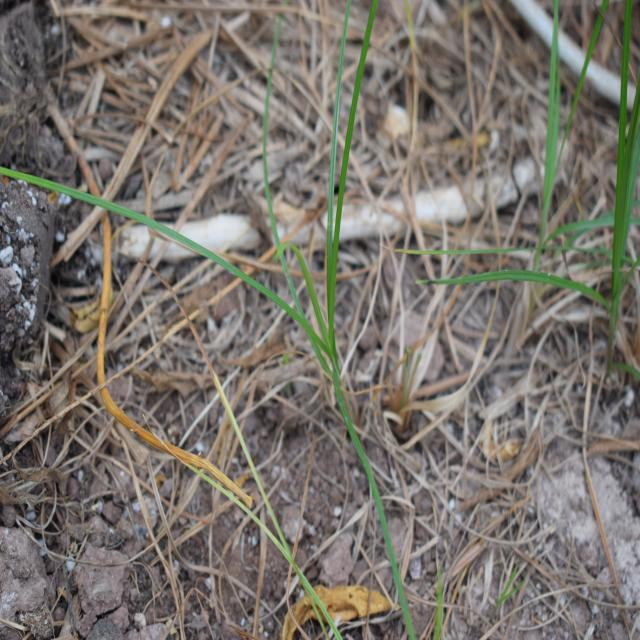sedge: (32, 59, 429, 437)
